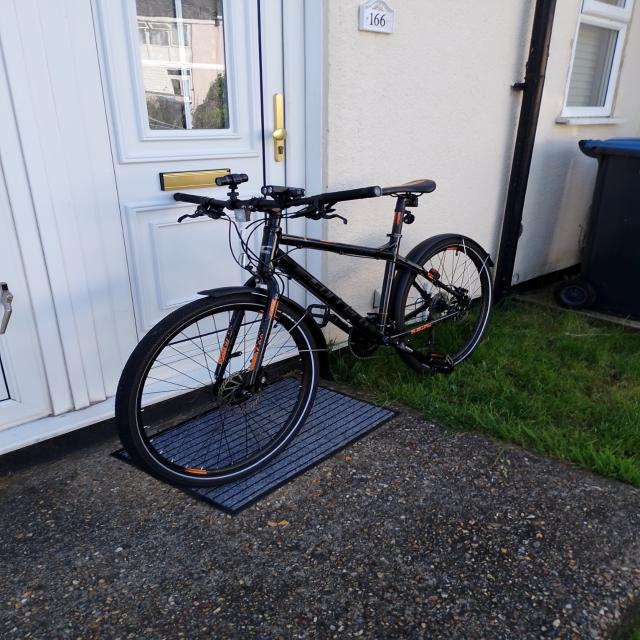bicycle: (114, 171, 495, 488)
